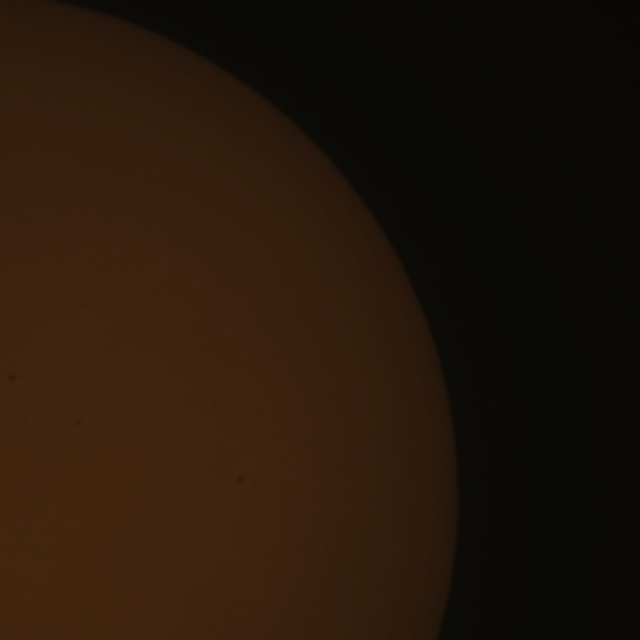sunspot: (6, 372, 18, 385), (236, 474, 246, 486)
